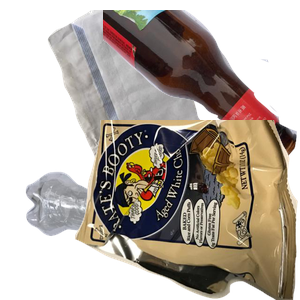glass: (103, 10, 300, 163)
paper: (45, 10, 251, 190)
plastic: (23, 169, 243, 300)
trash: (75, 120, 300, 300)
